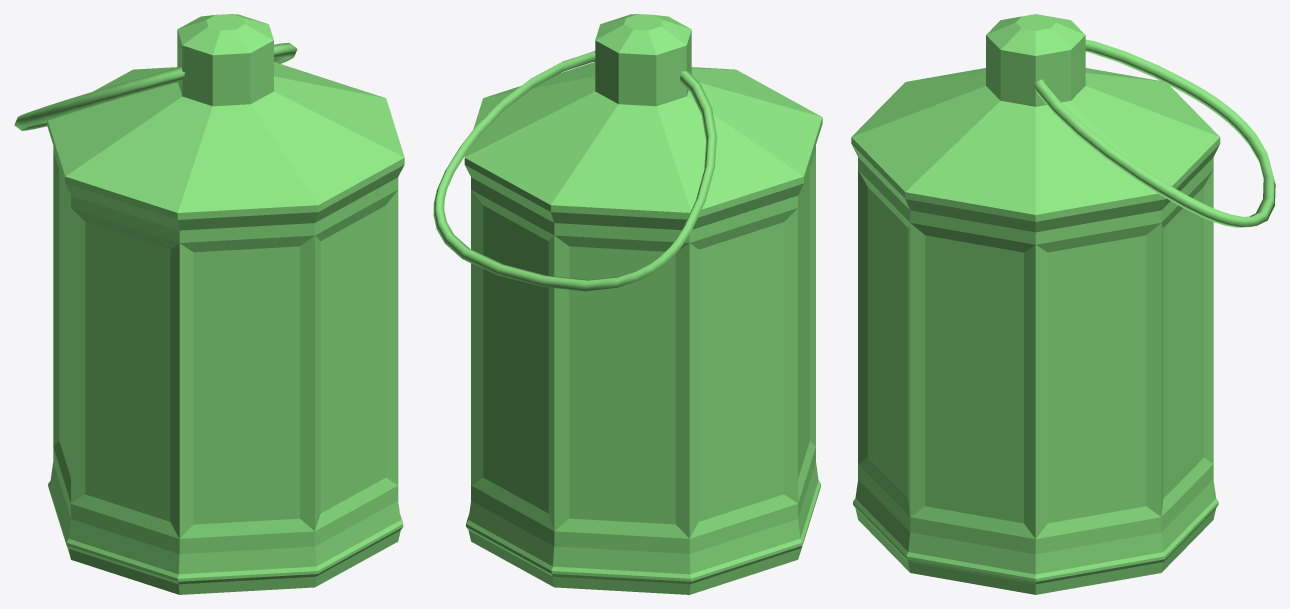
The model's file is LampV3.fbx.
The picture shows the model from 3 angles, left to right: view 1: azimuth 30°, elevation 25°; view 2: azimuth 150°, elevation 25°; view 3: azimuth 270°, elevation 25°; orthographic projection.
Visible parts, largest first — view 1: LampV3, Nitka; view 2: LampV3, Nitka; view 3: LampV3, Nitka.
Boxes of the visible parts, left/top/right/bottom form: LampV3: left=46, top=14, right=404, bottom=594; Nitka: left=14, top=43, right=297, bottom=130; LampV3: left=464, top=14, right=822, bottom=594; Nitka: left=433, top=51, right=716, bottom=291; LampV3: left=851, top=14, right=1220, bottom=594; Nitka: left=1033, top=39, right=1275, bottom=227.
Size of the model in its own units: 32.21 by 47.94 by 37.04.
